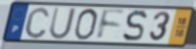3: (147, 11, 171, 43)
C: (23, 6, 51, 40)
F: (95, 8, 126, 42)
O: (72, 8, 99, 42)
S: (121, 9, 148, 44)
U: (48, 6, 77, 41)
